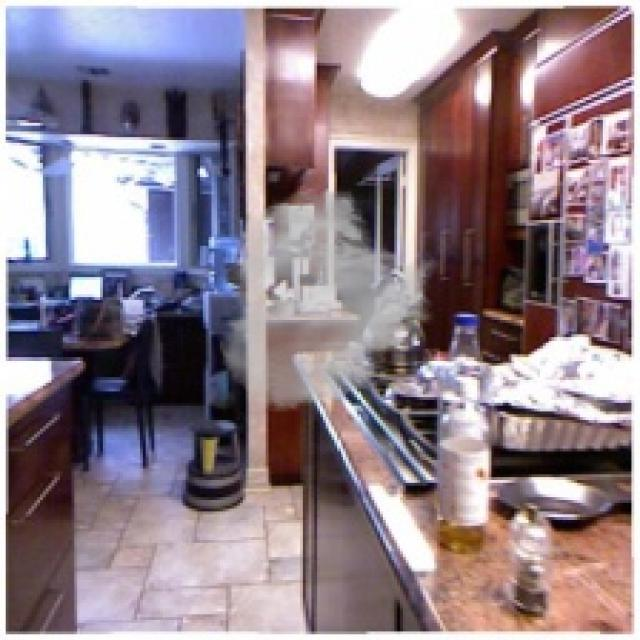Smoke: (217, 186, 440, 414)
